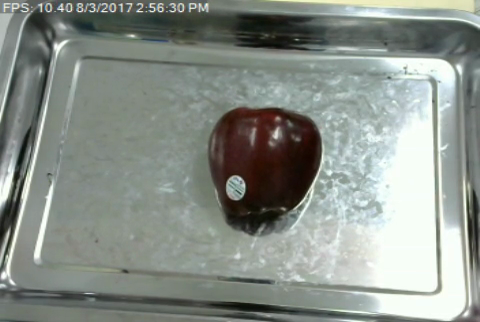Apple: (203, 102, 328, 225)
